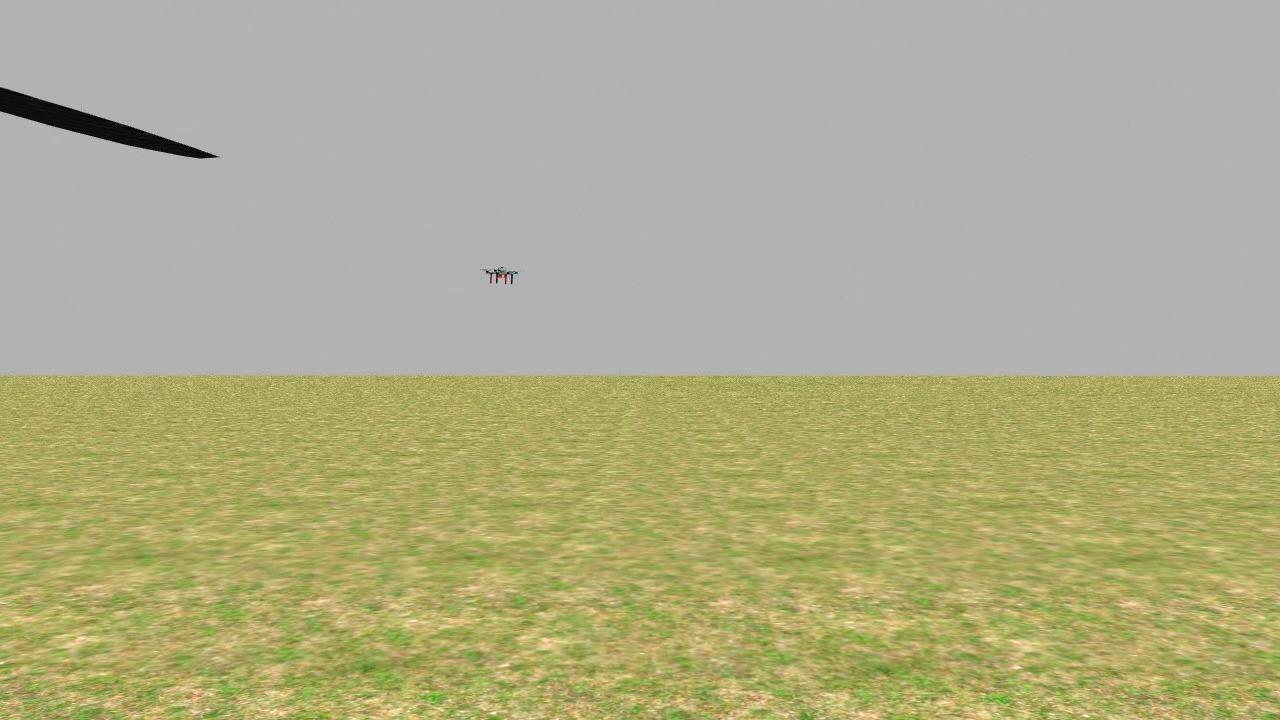UAV: (482, 259, 526, 297)
